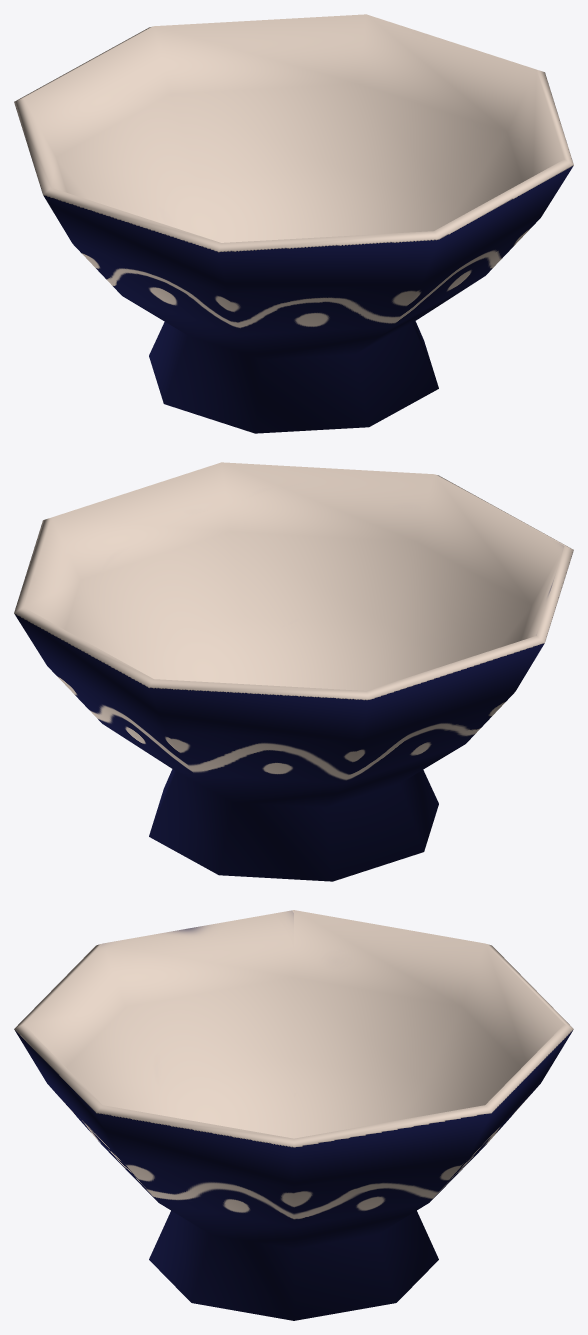
File: bol_noodles_vacio.fbx
3 views of the same model, one above another, from view 1: azimuth 30°, elevation 25°; view 2: azimuth 150°, elevation 25°; view 3: azimuth 270°, elevation 25° (orthographic). The views are drawn at different scales.
Parts seen in each view (by area): view 1: Bol; view 2: Bol; view 3: Bol.
Part boxes in pixels (x1,y1,x2,y2): Bol: [14, 14, 573, 433]; Bol: [14, 462, 573, 881]; Bol: [14, 910, 573, 1320].
Size of the model in its own units: 1543 by 716 by 1543.
